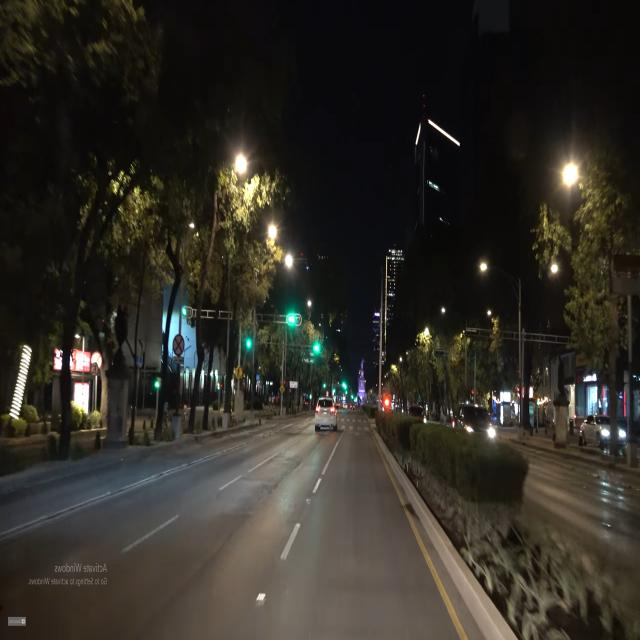headlights: (464, 420, 504, 445), (595, 424, 629, 444)
